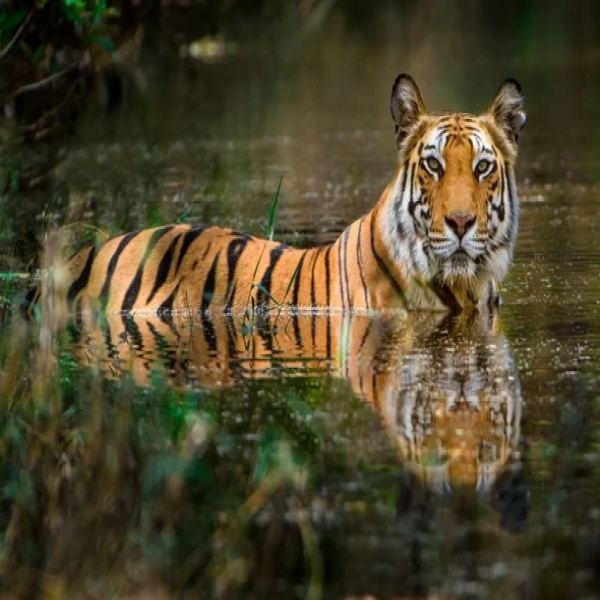Tiger: (57, 70, 527, 315)
